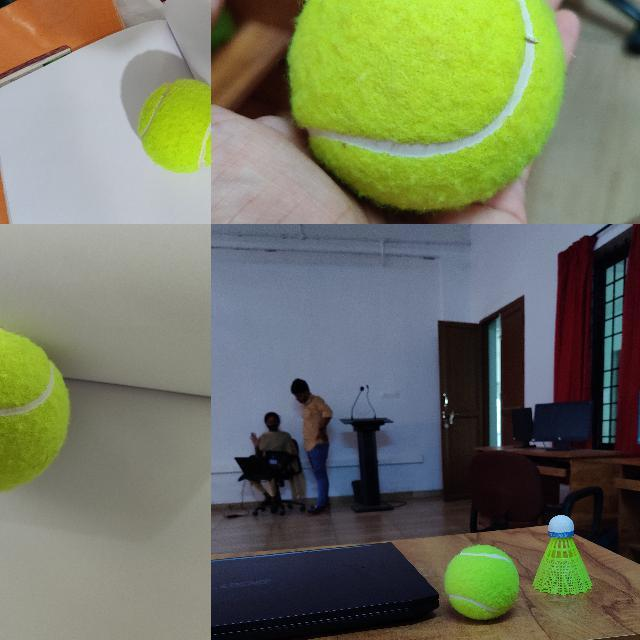tennis-ball: (288, 0, 564, 209), (0, 328, 71, 495), (137, 77, 210, 173), (444, 545, 518, 619)
